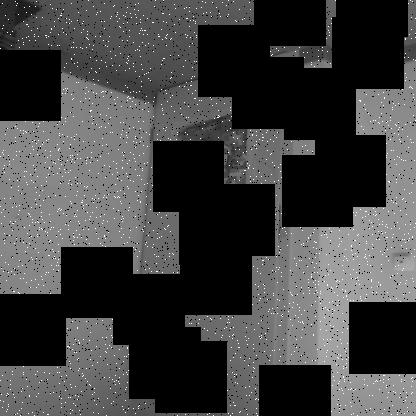Porte: (124, 47, 303, 415)
